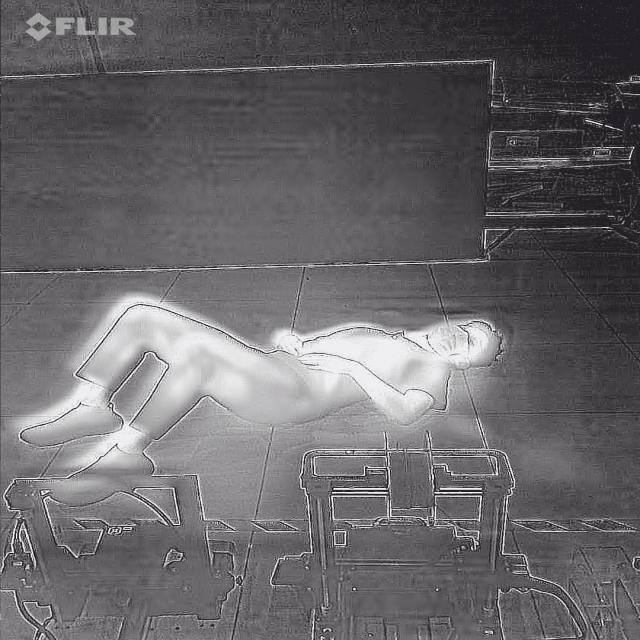Victim: (13, 286, 512, 510)
